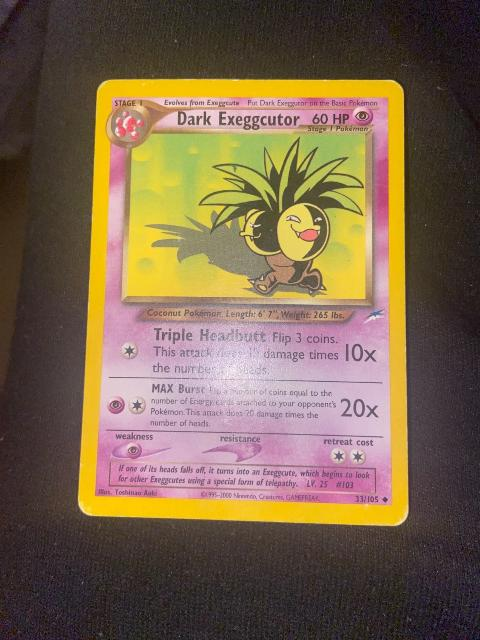Card: (73, 75, 417, 531)
Name: (175, 107, 306, 133)
